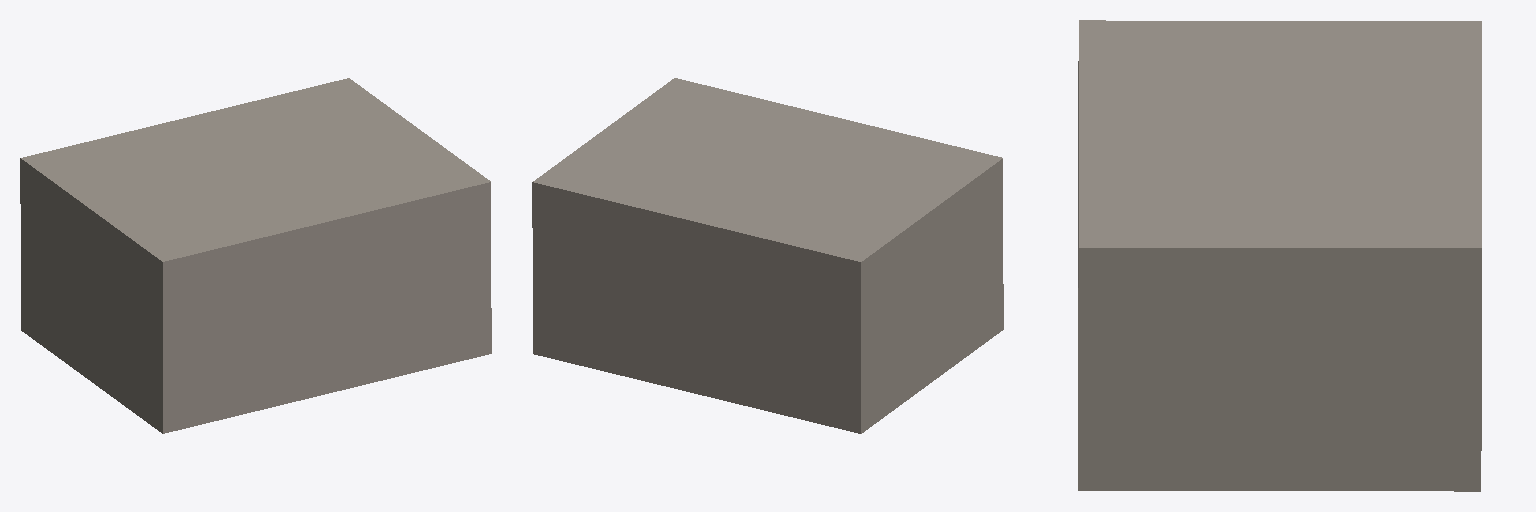
The robot description file, URDF, robot "robosub_description":
<robot name="robosub_description">
  <link name="base_link">
    <inertial>
      <origin
        xyz="0 0 0"
        rpy="1.57 0 0" />
      <mass value="12.0402580357079" />
      <inertia
        ixx="0.339837446412162"
        ixy="-0.00710856649692138"
        ixz="-0.00439921566374207"
        iyy="0.186374894960093"
        iyz="-0.00780267565736607"
        izz="0.303768511784769" />
    </inertial>
    <visual>
      <origin
        xyz="0 0 0"
        rpy="1.57 0 0" />
      <geometry>
        <!--<mesh filename="package://robosub_description/meshes/base_link.stl" />-->
	<box size="2 1 1.5" />
      </geometry>
      <material
        name="">
        <color
          rgba="0.647058823529412 0.619607843137255 0.588235294117647 1" />
      </material>
    </visual>
    <collision>
      <origin
        xyz="0 0 0"
        rpy="1.57 0 0" />
      <geometry>
	<box size="1 1 1" />
        <!--<mesh filename="package://robosub_description/meshes/base_link.stl" />-->
      </geometry>
    </collision>
  </link>
</robot>

--- Facts derived from the render (not from the file) ---
The picture shows the robot from 3 angles, left to right: view 1: azimuth 30°, elevation 25°; view 2: azimuth 150°, elevation 25°; view 3: azimuth 270°, elevation 25°; orthographic projection.
Model robosub_description with 1 links and 0 joints (none), rooted at base_link, posed every joint at zero.
Visible links, largest first — view 1: base_link; view 2: base_link; view 3: base_link.
Link boxes in pixels (box(x1,y1,x2,y2)): base_link: box(20, 78, 491, 433); base_link: box(532, 78, 1003, 433); base_link: box(1078, 20, 1481, 491).
Bounding box of the posed robot: 2 × 1.5 × 1 m (x, y, z).
Geometry: primitives only (box / cylinder / sphere), no mesh files.